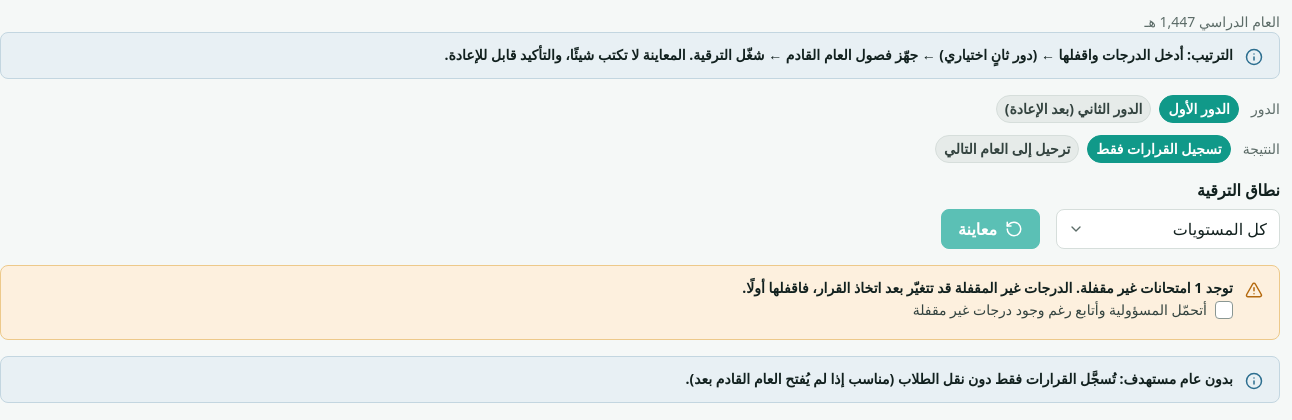
Test case: PromotionPage › blocks the run while marks are unlocked, and releases it on acknowledgement
This screenshot has width=1292, height=420.
Expected: the button "معاينة" is disabled, x1=941 y1=209 x2=1040 y2=249
Click the checkbox at [1073, 310], box x1=913 y1=300 x2=1233 y2=320
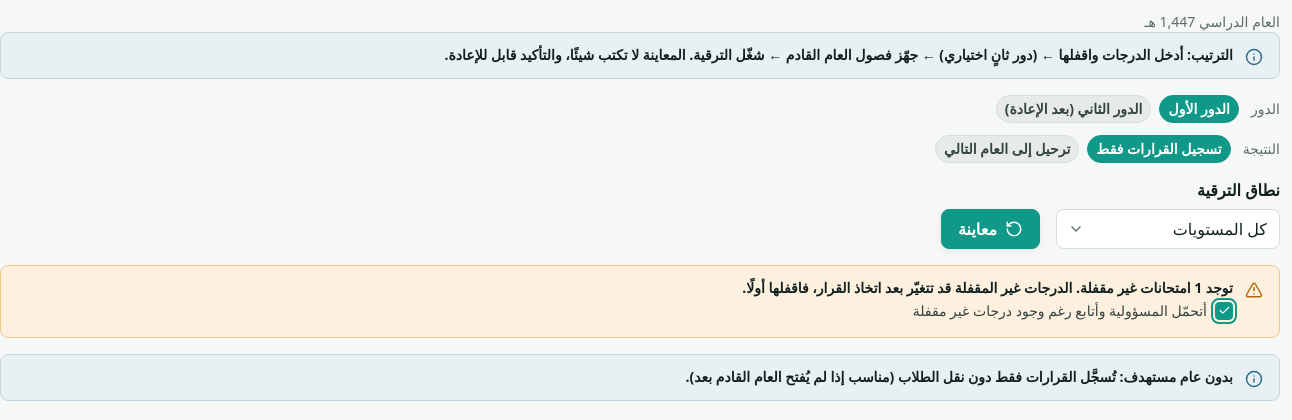
Expected: the button "معاينة" is enabled, x1=941 y1=209 x2=1040 y2=249
